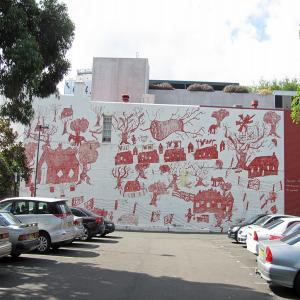Vehicle-registration-plate: (29, 235, 35, 241), (261, 251, 265, 258), (70, 224, 72, 228)
